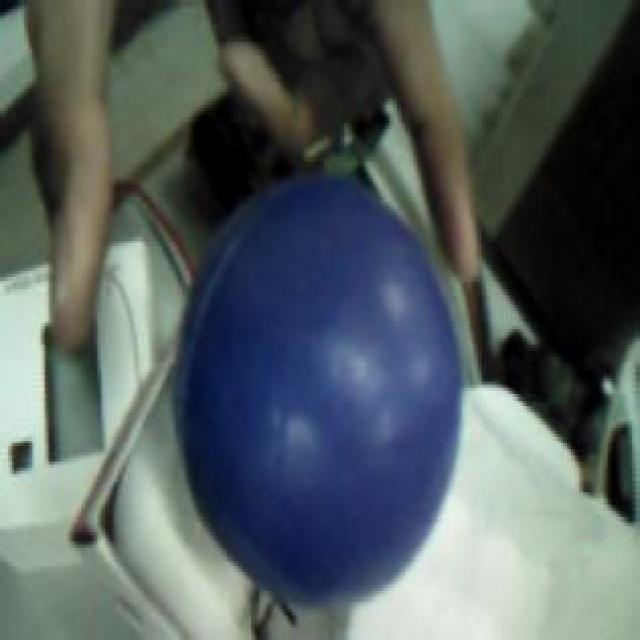BallPurple: (177, 170, 463, 606)
